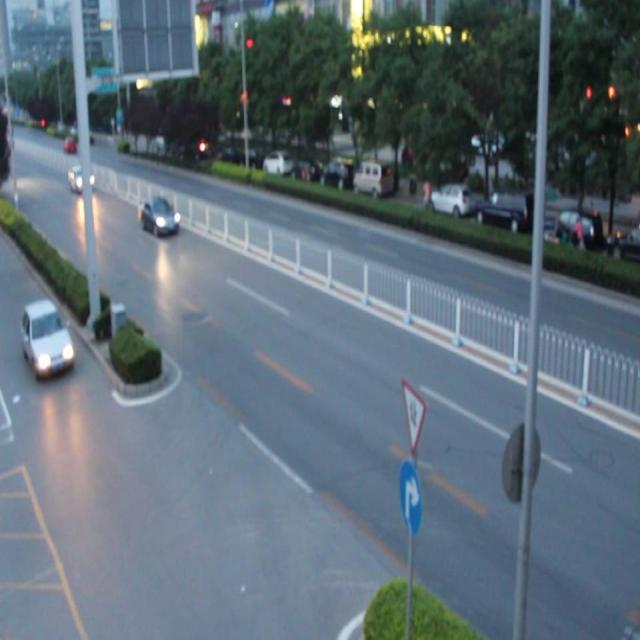car: (20, 300, 76, 377), (140, 196, 180, 238), (70, 163, 94, 193)
